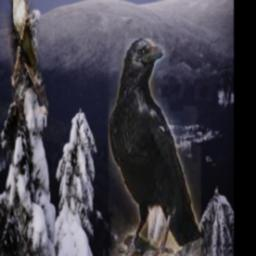Crow: (109, 38, 201, 256)
Cuckoo: (6, 0, 49, 117)
